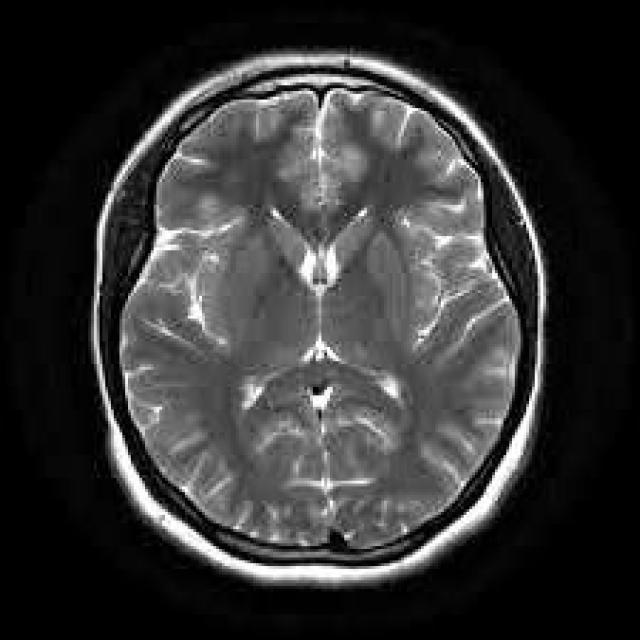notumor: (91, 54, 543, 583)
